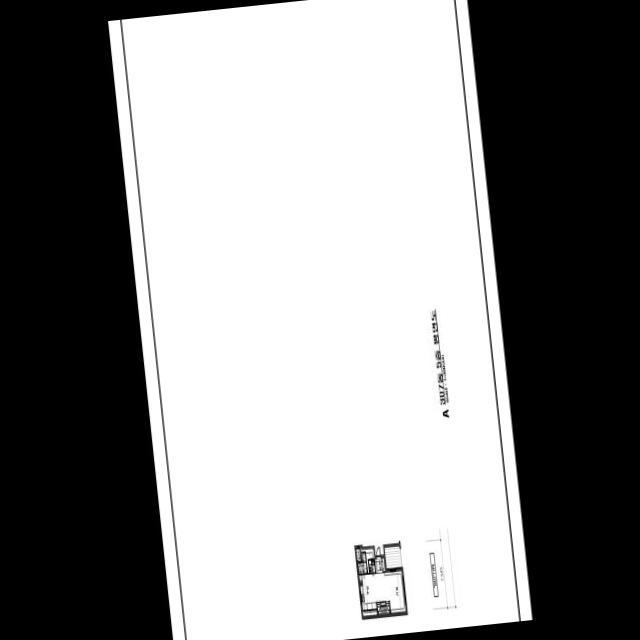background: (108, 0, 532, 640)
space_front: (375, 556, 382, 572)
space_kitchen: (359, 573, 376, 609)
space_living_room: (372, 570, 405, 612)
space_multipurpose_space: (358, 552, 367, 573)
space_other: (384, 545, 401, 567), (360, 547, 374, 572), (362, 609, 377, 615), (381, 557, 385, 570)
space_outdoor_room: (355, 547, 361, 560)
space_staircase: (376, 599, 390, 613)
space_toilet: (368, 559, 375, 572)
